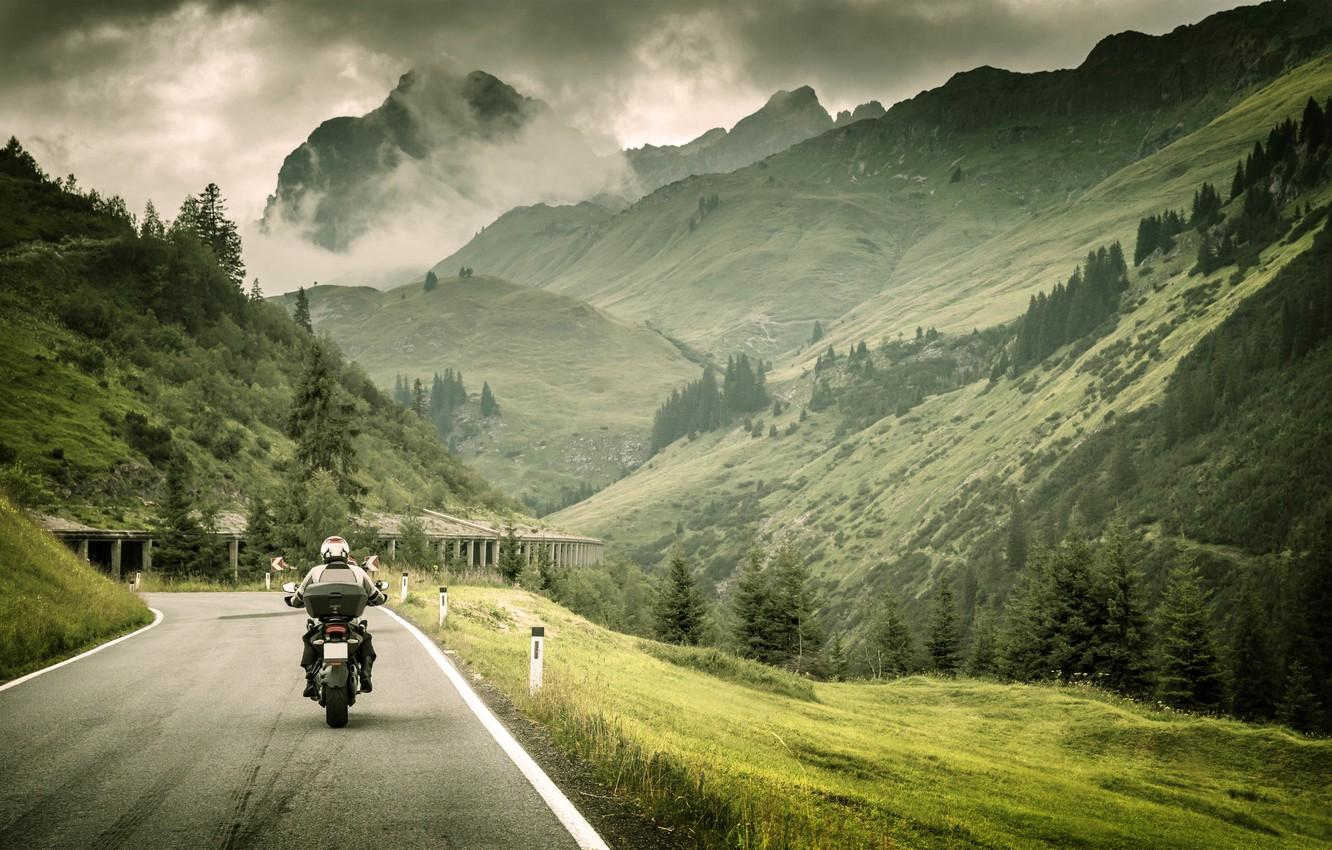Motorcycle: (221, 508, 425, 744)
